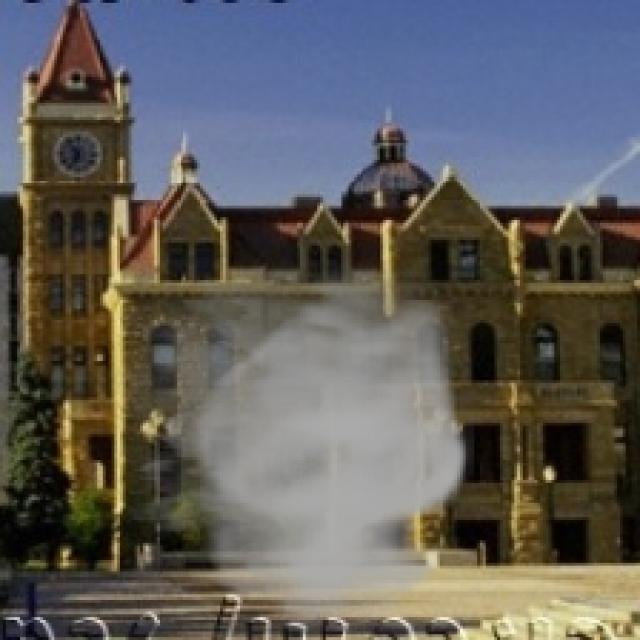Smoke: (94, 248, 474, 628)
